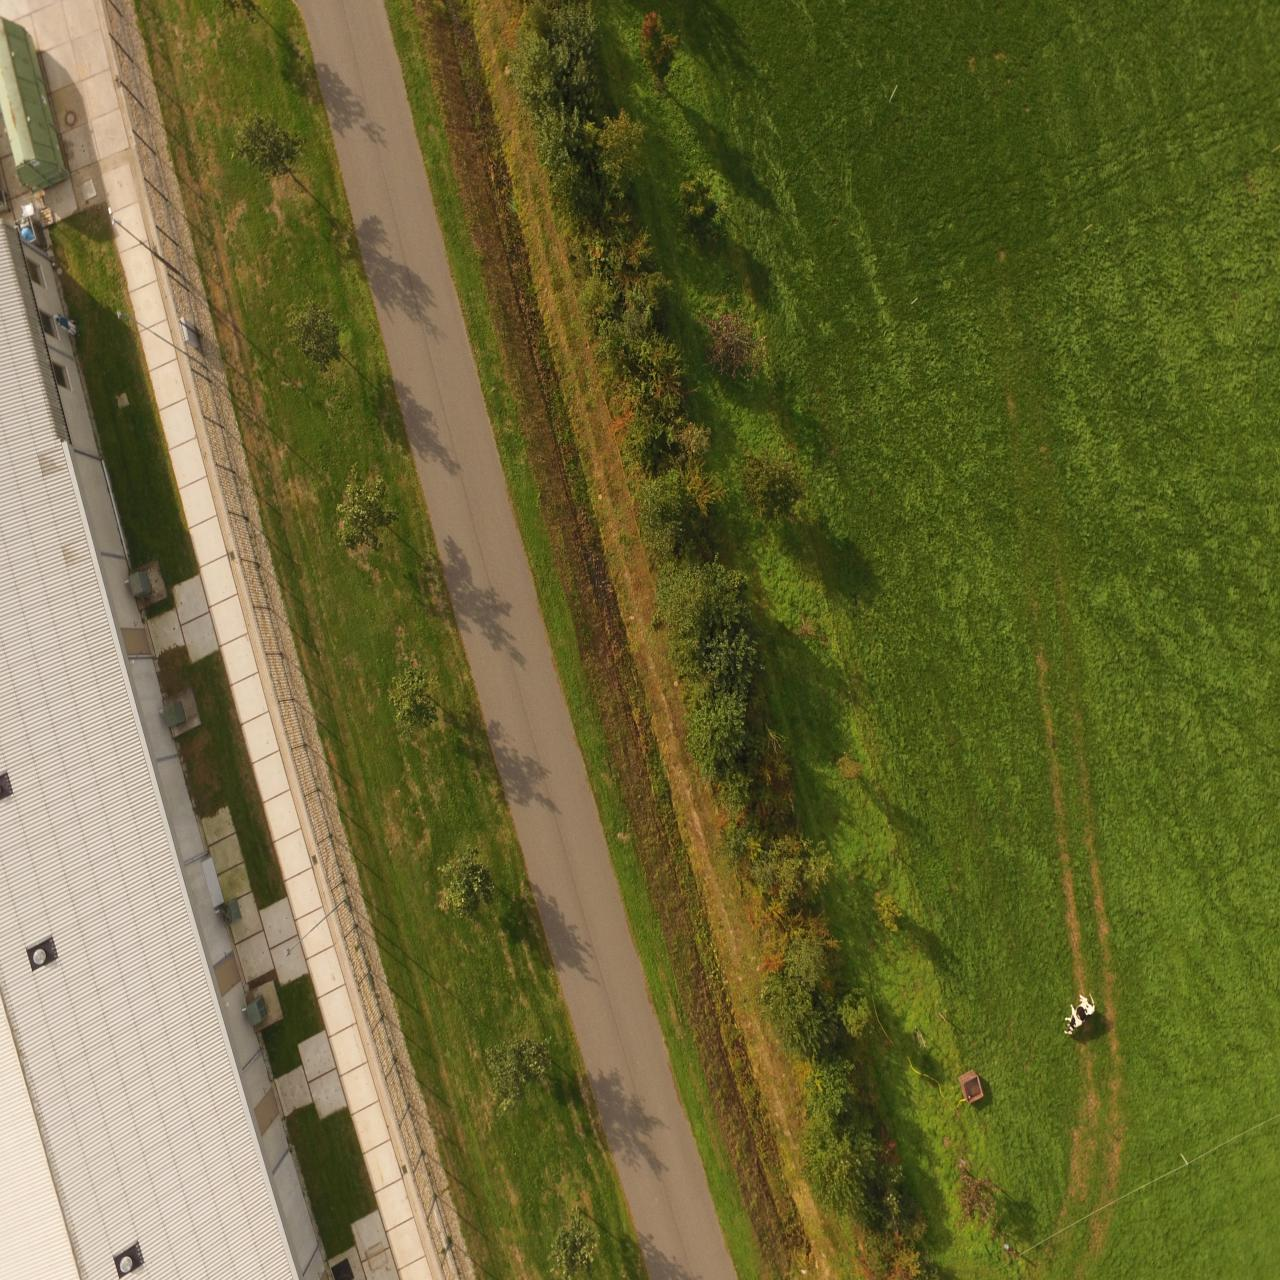cow: (1062, 992, 1099, 1039)
